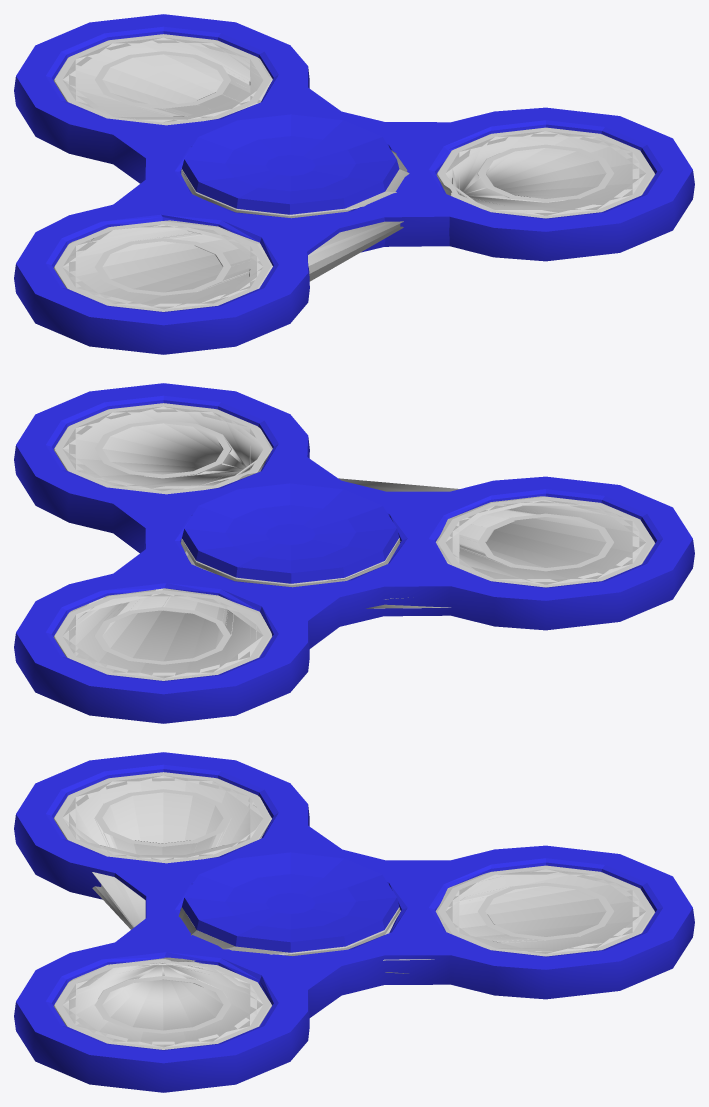
Rendered from Fidget_Spinner.FBX.
The picture shows the model from 3 angles, top to bottom: view 1: azimuth 30°, elevation 25°; view 2: azimuth 150°, elevation 25°; view 3: azimuth 270°, elevation 25°; orthographic projection.
Visible parts, largest first — view 1: Circle001, Object001; view 2: Circle001, Object001; view 3: Circle001, Object001.
Part boxes in pixels (<box>): Circle001: <box>14,14,694,354</box>; Object001: <box>53,34,655,311</box>; Circle001: <box>14,383,694,723</box>; Object001: <box>53,403,655,680</box>; Circle001: <box>14,752,694,1092</box>; Object001: <box>53,772,655,1049</box>.
Size of what is drawn, in the model's own units: 147 by 11.01 by 135.
